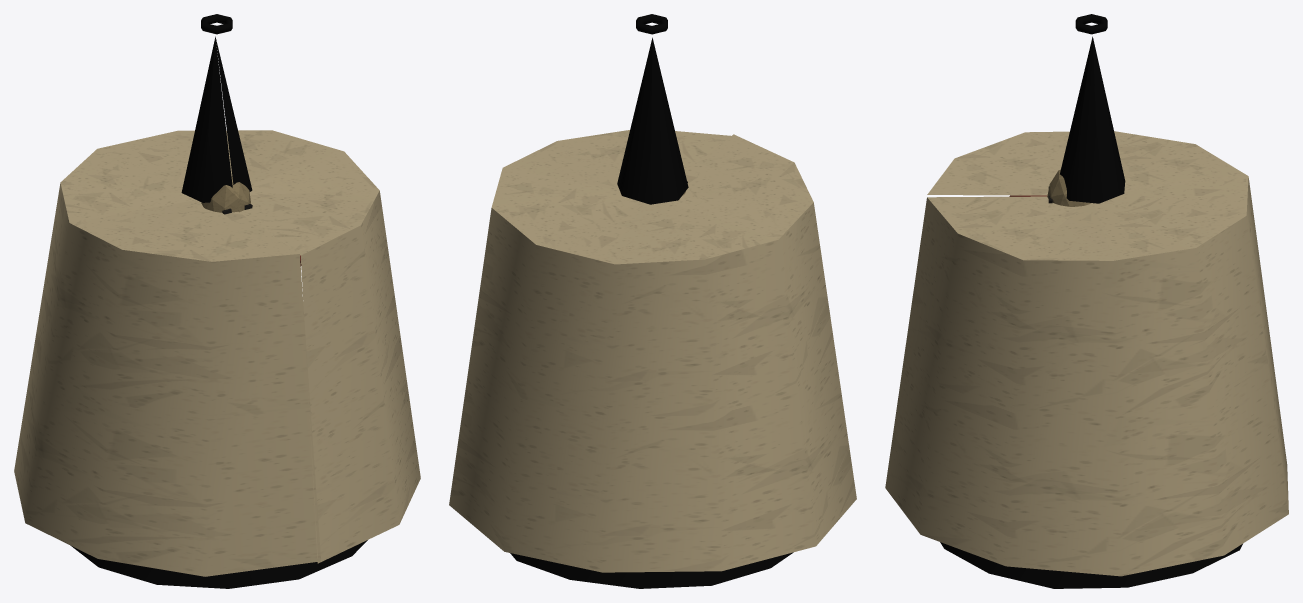
The model's file is character-comparison-bell-stone-v1.glb.
3 renders of one model, left to right at view 1: azimuth 30°, elevation 25°; view 2: azimuth 150°, elevation 25°; view 3: azimuth 270°, elevation 25°, orthographic.
Parts seen in each view (by area): view 1: Bell stone; view 2: Bell stone; view 3: Bell stone.
Part boxes in pixels (<box>): Bell stone: <box>14,14,420,588</box>; Bell stone: <box>449,14,856,588</box>; Bell stone: <box>885,14,1288,588</box>.
Bounding box in the file's own units: 3.78 × 5.11 × 3.74.
Materials: 7 (5 with a texture image).
